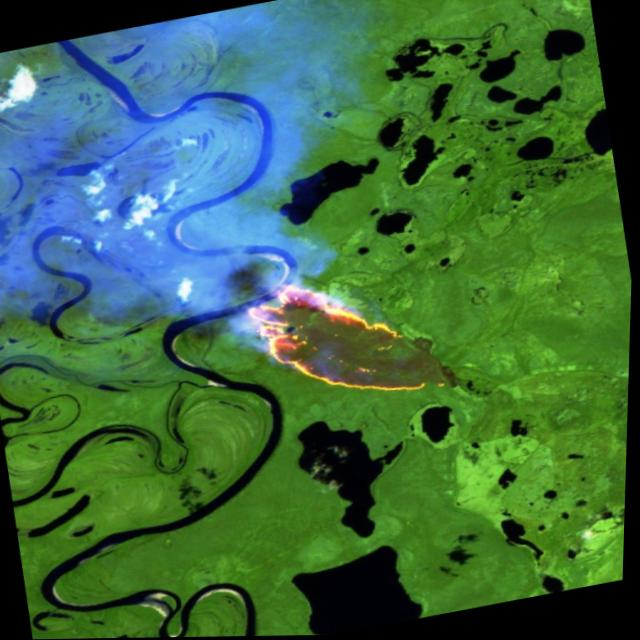fire: (231, 254, 461, 425)
